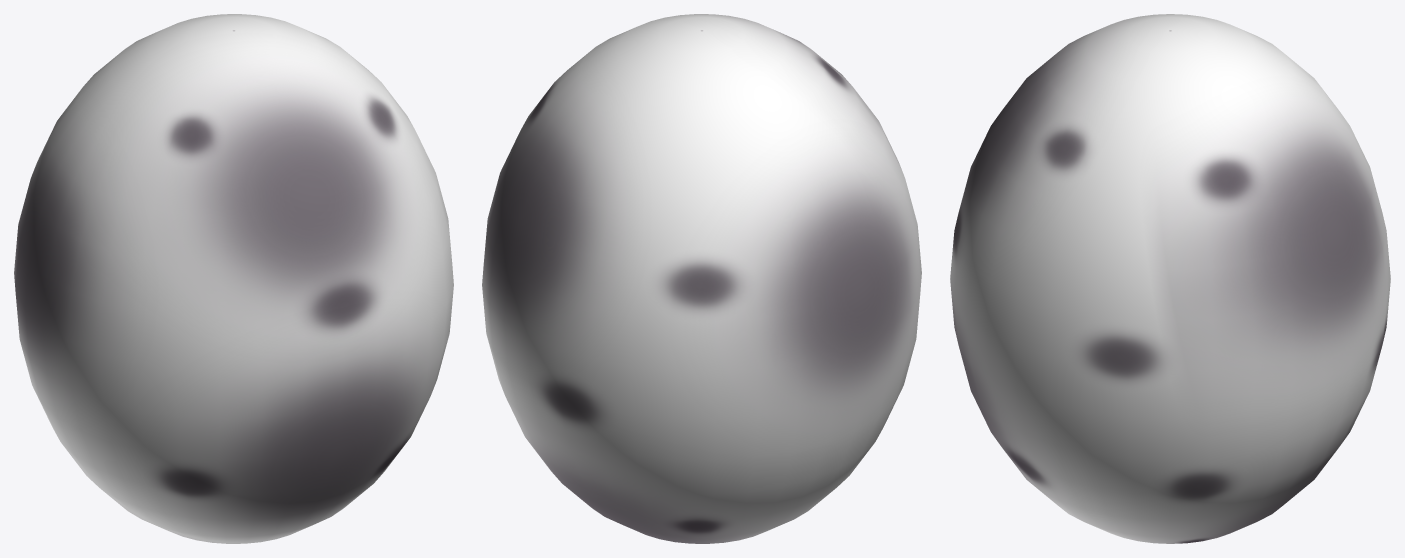
Rendered from Egg.fbx.
3 views of the same model, side by side, from view 1: azimuth 30°, elevation 25°; view 2: azimuth 150°, elevation 25°; view 3: azimuth 270°, elevation 25° (orthographic).
Parts seen in each view (by area): view 1: Egg; view 2: Egg; view 3: Egg.
Boxes of the visible parts, x1=… form: Egg: x1=14, y1=14, x2=453, y2=543; Egg: x1=482, y1=14, x2=921, y2=543; Egg: x1=950, y1=14, x2=1390, y2=543.
Bounding box in the file's own units: 1.41 × 1.75 × 1.41.
Materials: 1 (1 with a texture image).
